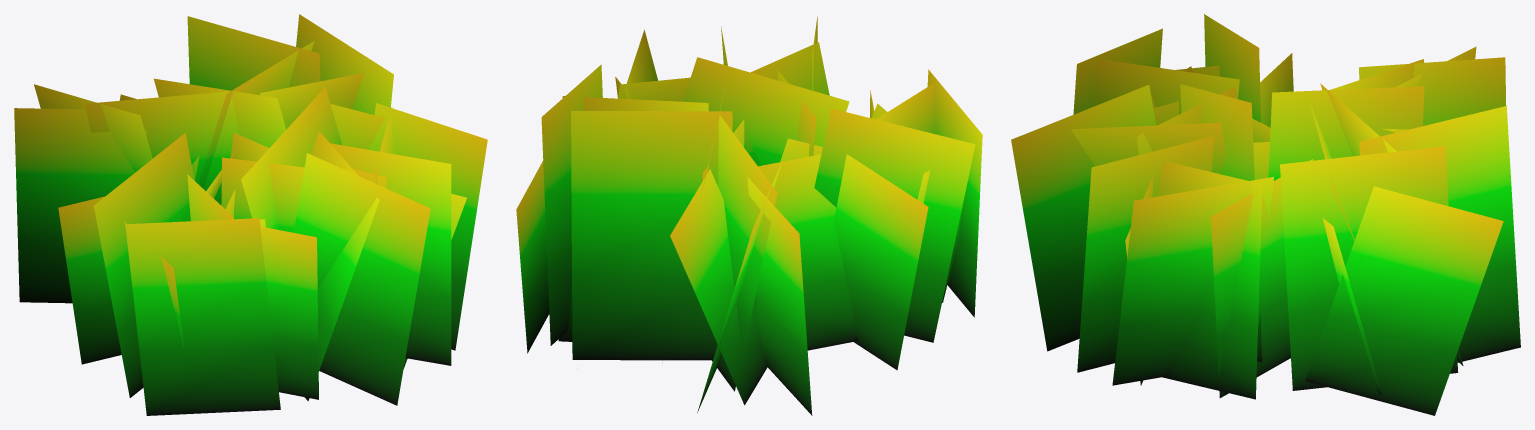
File: Grass.fbx
The picture shows the model from 3 angles, left to right: view 1: azimuth 30°, elevation 25°; view 2: azimuth 150°, elevation 25°; view 3: azimuth 270°, elevation 25°; orthographic projection. The views are drawn at different scales.
Parts seen in each view (by area): view 1: GrassBlade.002; view 2: GrassBlade.002; view 3: GrassBlade.002.
Boxes of the visible parts, x1,y1,x2,y2 form: GrassBlade.002: (14, 14, 487, 415); GrassBlade.002: (516, 16, 982, 415); GrassBlade.002: (1011, 14, 1520, 415).
Bounding box in the file's own units: 157 × 105 × 180.
